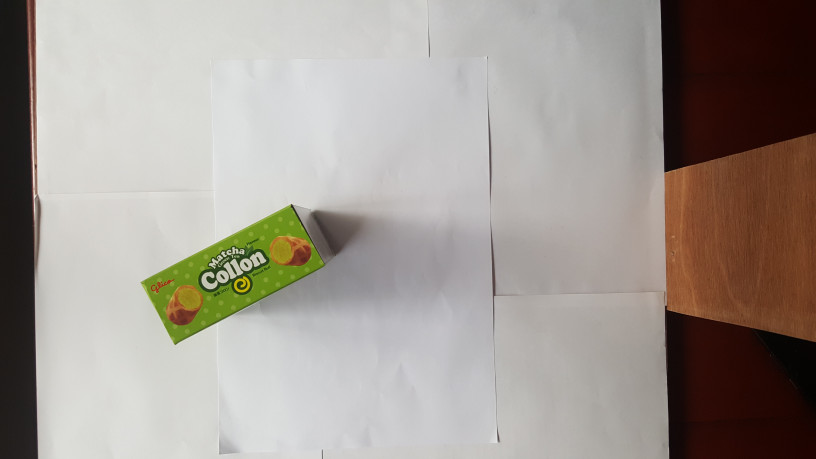collon-matcha: (140, 202, 339, 347)
